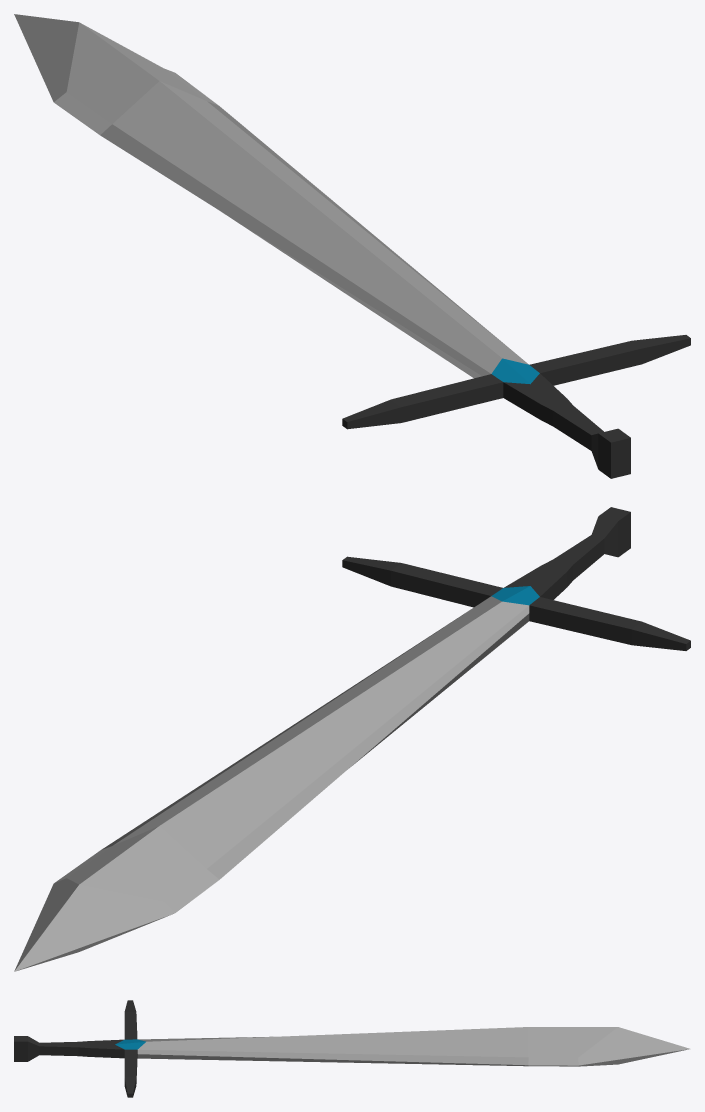
Rendered from soard.obj.
The picture shows the model from 3 angles, top to bottom: view 1: azimuth 30°, elevation 25°; view 2: azimuth 150°, elevation 25°; view 3: azimuth 270°, elevation 25°; orthographic projection. The views are drawn at different scales.
Visible parts, largest first — view 1: Cube_Cube.001; view 2: Cube_Cube.001; view 3: Cube_Cube.001.
Boxes of the visible parts, left/top/right/bottom form: Cube_Cube.001: left=14, top=14, right=690, bottom=478; Cube_Cube.001: left=14, top=507, right=690, bottom=971; Cube_Cube.001: left=14, top=1000, right=689, bottom=1097.
Bounding box in the file's own units: 2.6 × 0.4866 × 7.94.
